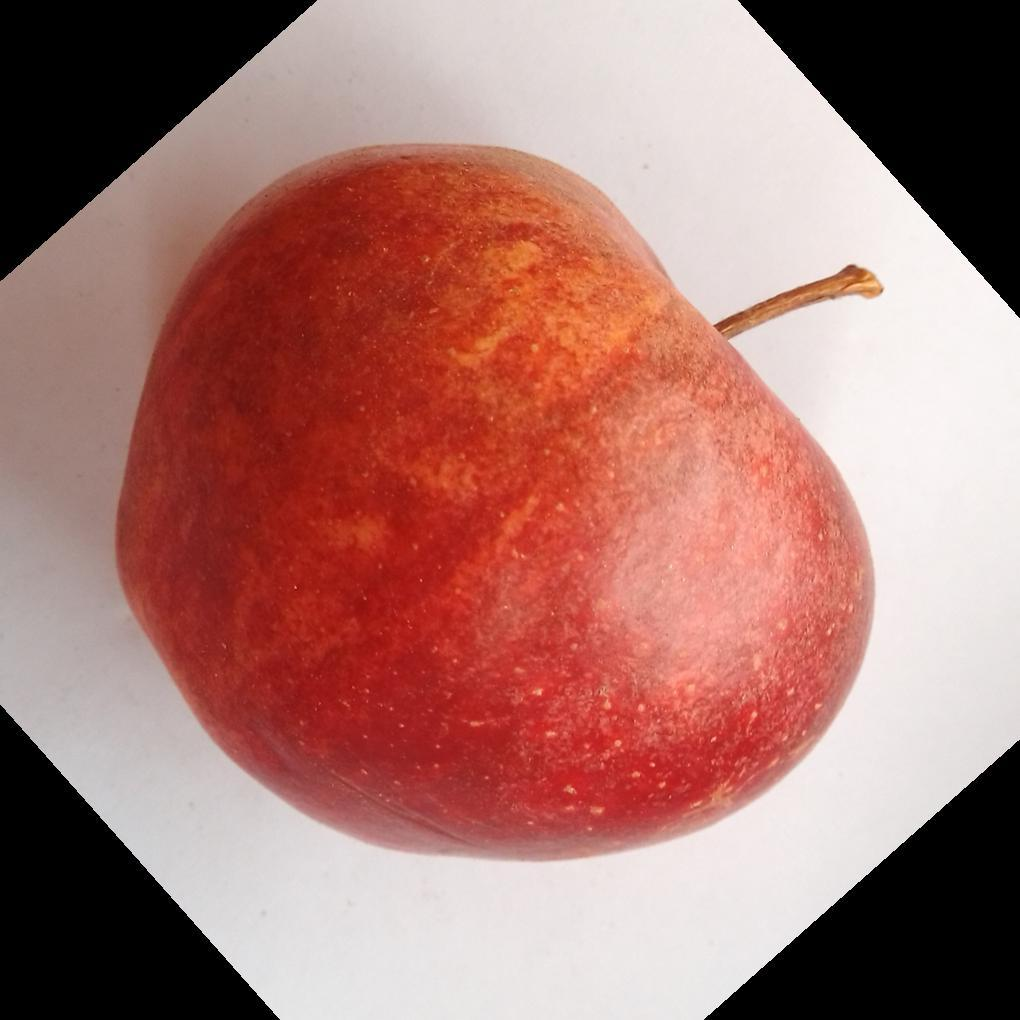FreshGuava: (111, 144, 877, 867)
